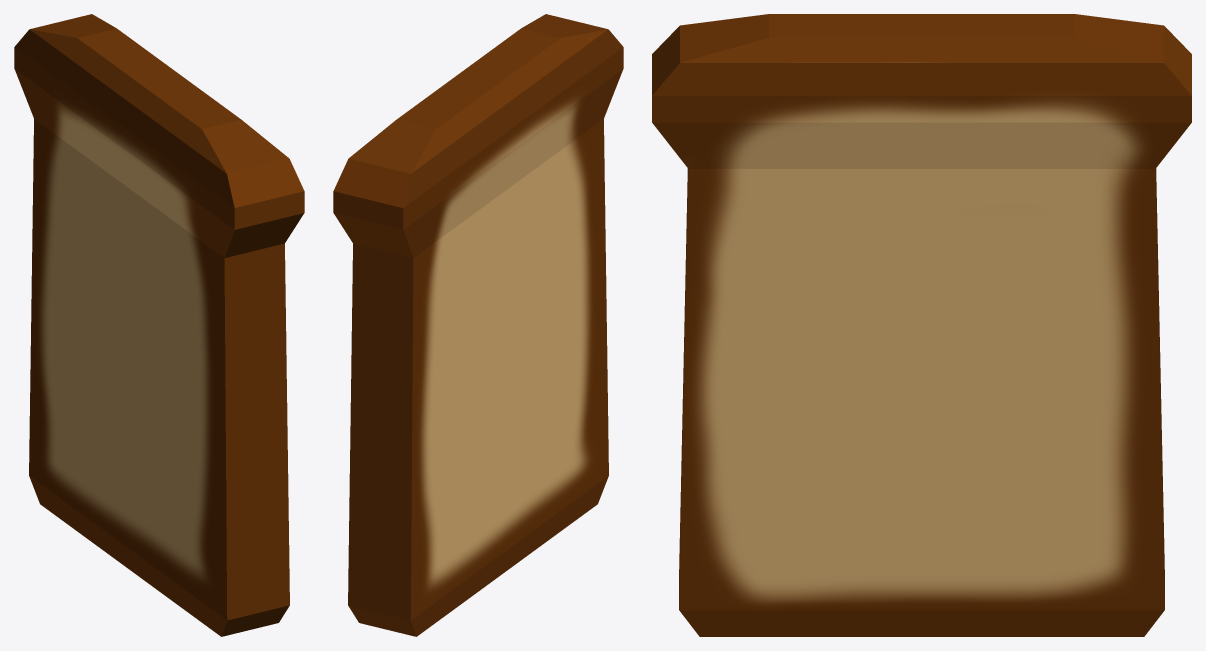
File: bread.fbx
The picture shows the model from 3 angles, left to right: view 1: azimuth 30°, elevation 25°; view 2: azimuth 150°, elevation 25°; view 3: azimuth 270°, elevation 25°; orthographic projection. The views are drawn at different scales.
Parts seen in each view (by area): view 1: Cube; view 2: Cube; view 3: Cube.
Boxes of the visible parts, box(x1,y1,x2,y2) form: Cube: box(14, 14, 304, 636); Cube: box(333, 14, 623, 636); Cube: box(652, 14, 1191, 636).
Size of the model in its own units: 40.67 by 270 by 222.
